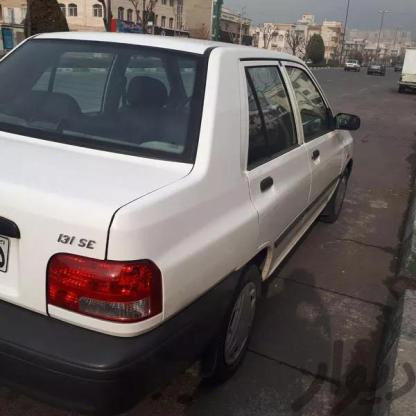Car: (0, 33, 356, 416), (392, 42, 416, 102), (365, 55, 379, 86), (346, 60, 362, 72)
